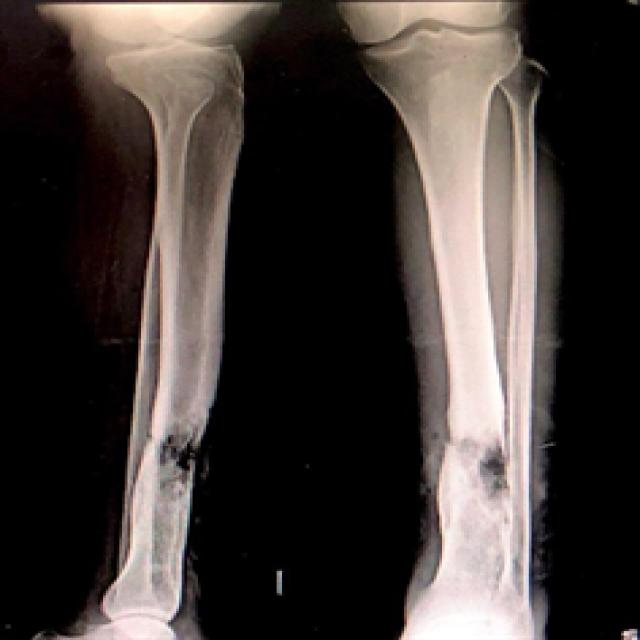fracture: (411, 409, 615, 532), (117, 394, 220, 520)
